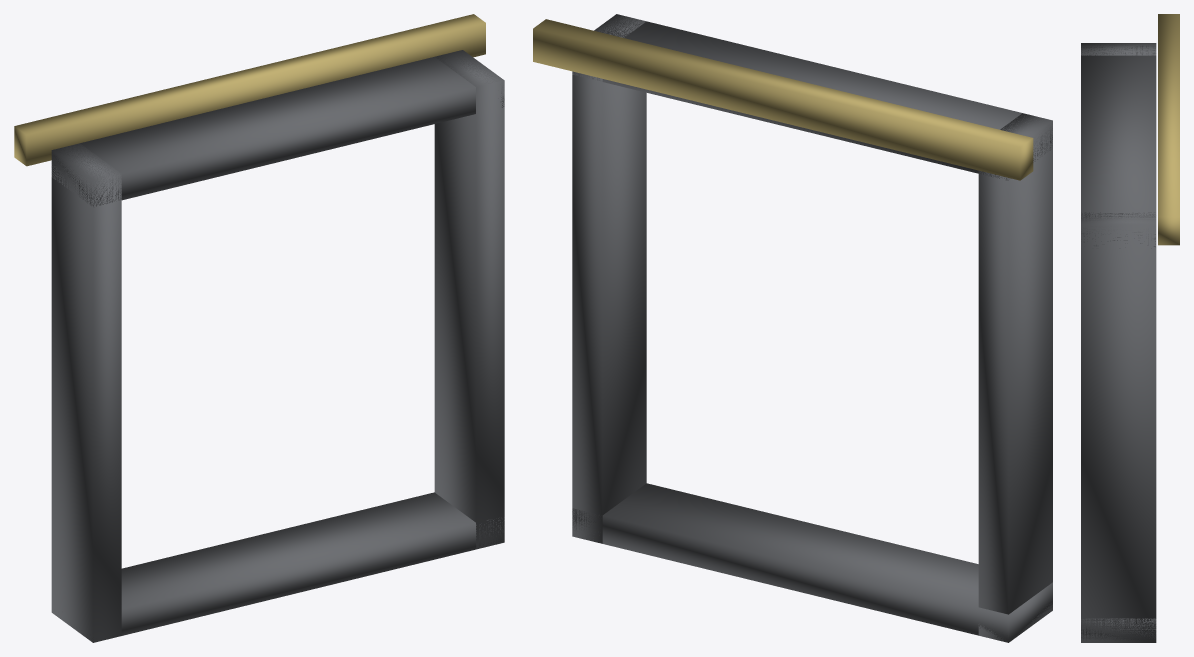
Rendered from egress_window_motel_w118_h130_s88_d24.glb.
3 renders of one model, left to right at view 1: azimuth 30°, elevation 25°; view 2: azimuth 150°, elevation 25°; view 3: azimuth 270°, elevation 25°, orthographic. The views are drawn at different scales.
Parts seen in each view (by area): view 1: world; view 2: world; view 3: world.
Part boxes in pixels (x1,y1,x2,y2): world: (14, 14, 504, 642); world: (533, 14, 1052, 642); world: (1081, 14, 1179, 642).
Size of the model in its own units: 1.53 by 1.53 by 0.315.
